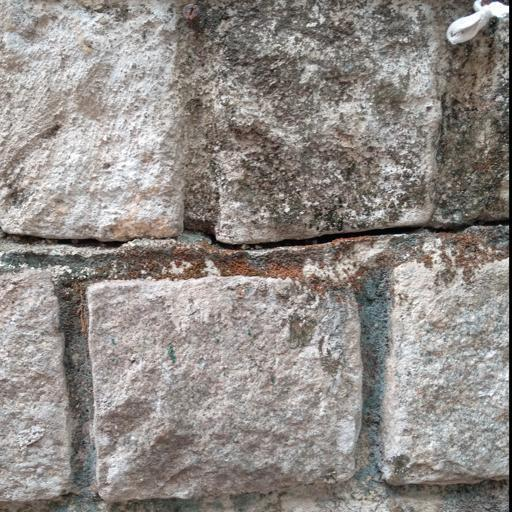major_crack: (0, 185, 512, 257)
